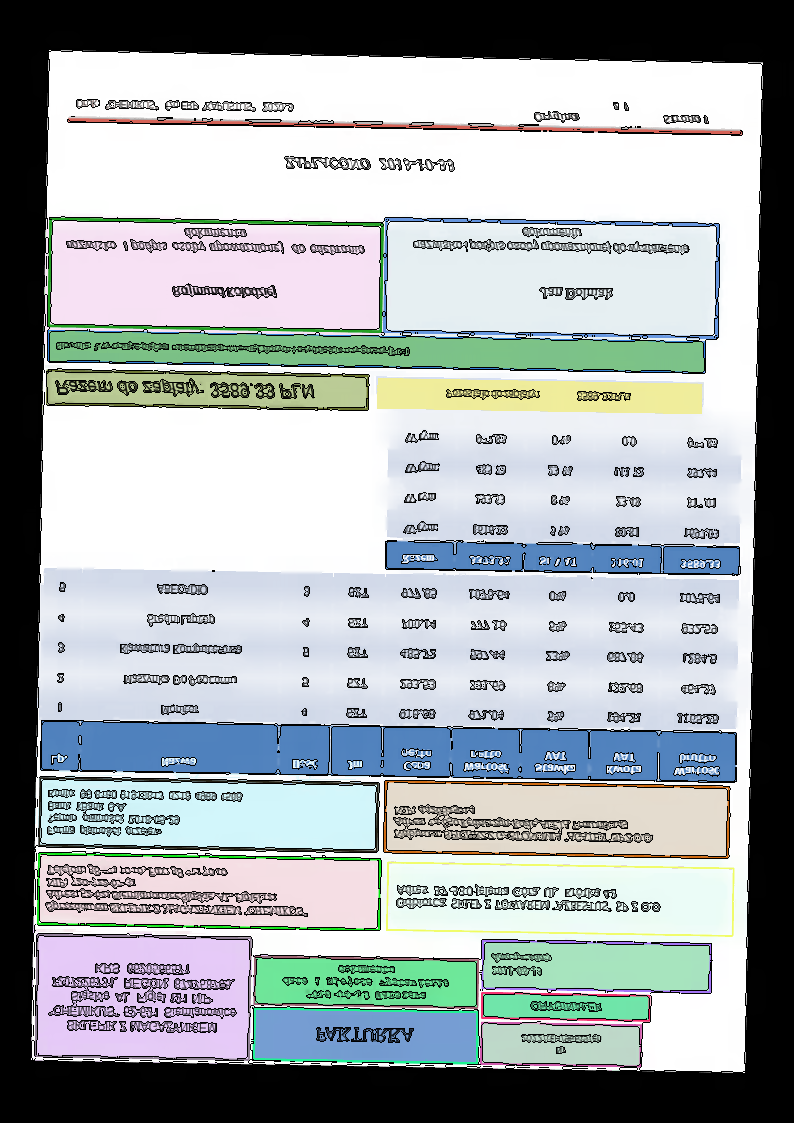Table: (39, 567, 741, 784), (384, 417, 743, 578)
TextBox: (42, 862, 312, 920), (47, 959, 240, 1036), (391, 802, 656, 846), (44, 787, 243, 841), (64, 224, 366, 257), (411, 224, 690, 258), (394, 882, 665, 915), (280, 961, 452, 1003), (52, 339, 411, 359), (52, 377, 317, 404), (532, 100, 711, 126), (75, 97, 294, 115), (284, 154, 454, 174), (445, 387, 631, 404), (311, 1024, 416, 1046), (519, 1030, 604, 1057), (169, 283, 278, 301), (489, 951, 553, 979), (537, 284, 616, 303), (528, 999, 604, 1016)
